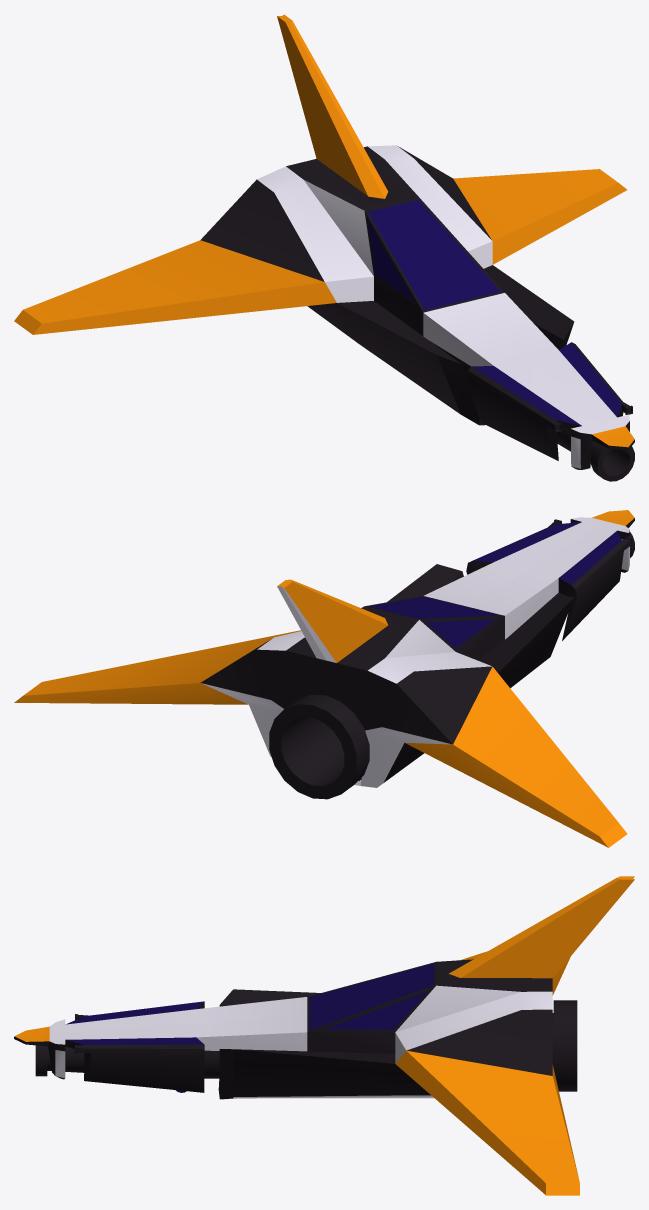
File: nave.fbx
3 renders of one model, top to bottom at view 1: azimuth 30°, elevation 25°; view 2: azimuth 150°, elevation 25°; view 3: azimuth 270°, elevation 25°, orthographic. The views are drawn at different scales.
Visible parts, largest first — view 1: nave; view 2: nave; view 3: nave.
Part boxes in pixels (bbox=[...]): nave: bbox=[14, 14, 634, 481]; nave: bbox=[14, 510, 634, 847]; nave: bbox=[14, 876, 634, 1195].
Bounding box in the file's own units: 779 × 300 × 789.
Materials: 1 (1 with a texture image).
